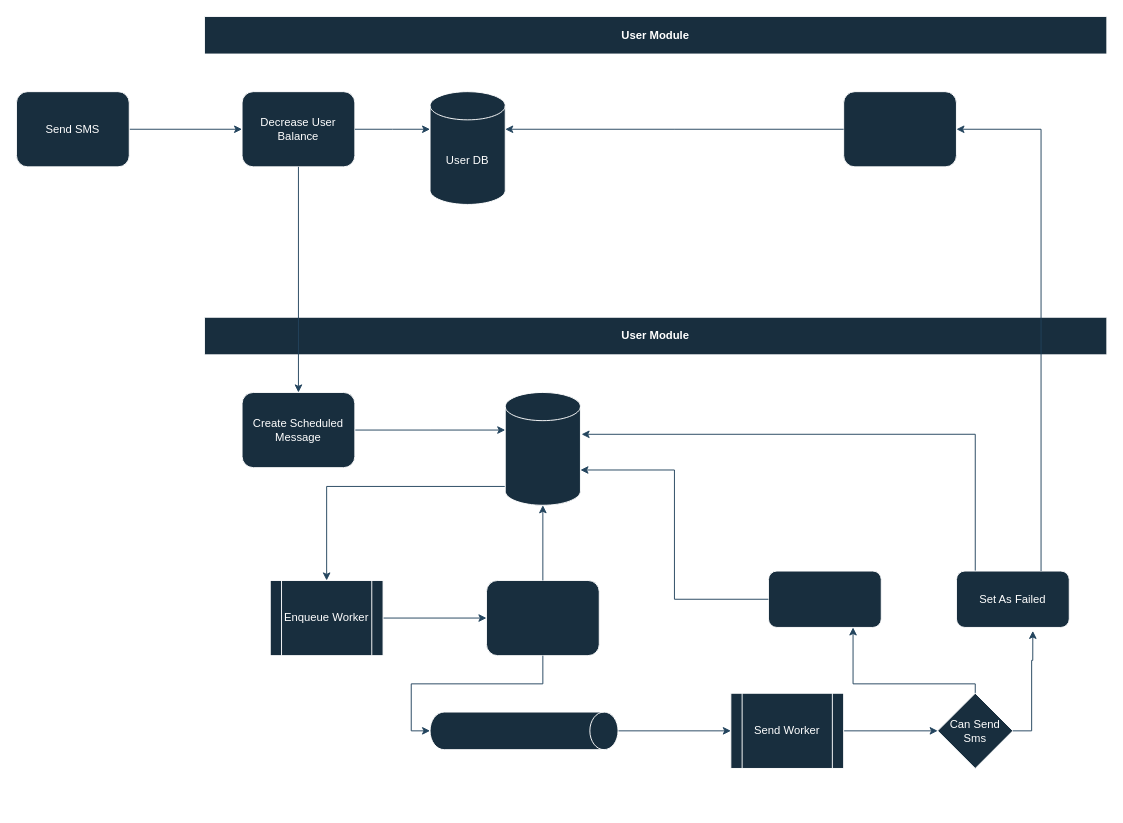
This 1123x823 diagram has some shape labels left out. The centre of each missing label's shape, as x and y in pixels:
Increase User Balance: (x=899, y=129)
Message Queue: (x=523, y=730)
Set As Sent: (x=824, y=598)
Set Message As Enqueue: (x=542, y=618)
Sms DB: (x=542, y=448)
